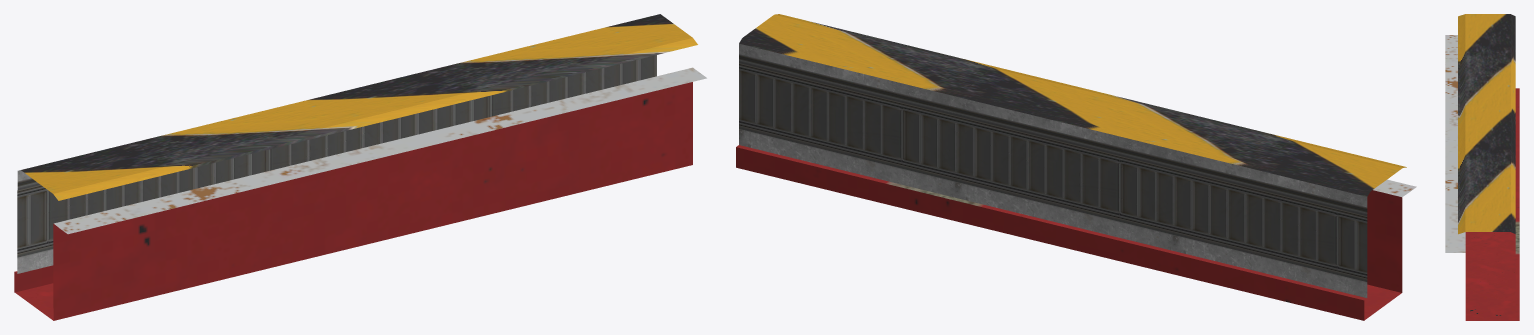
File: Ob_PlatformEdge1_RC.fbx
3 renders of one model, left to right at view 1: azimuth 30°, elevation 25°; view 2: azimuth 150°, elevation 25°; view 3: azimuth 270°, elevation 25°, orthographic. The views are drawn at different scales.
Visible parts, largest first — view 1: Ob_PlatformEdge1_RC; view 2: Ob_PlatformEdge1_RC; view 3: Ob_PlatformEdge1_RC.
Part boxes in pixels (x1,y1,x2,y2): Ob_PlatformEdge1_RC: (14, 14, 706, 320); Ob_PlatformEdge1_RC: (736, 14, 1416, 320); Ob_PlatformEdge1_RC: (1445, 14, 1519, 320).
Size of the model in its own units: 1001 by 190 by 145.
